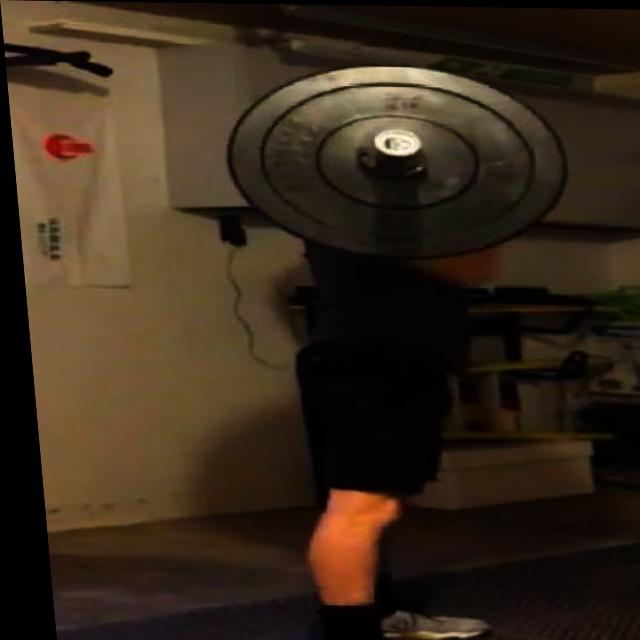barbell: (213, 54, 577, 264)
